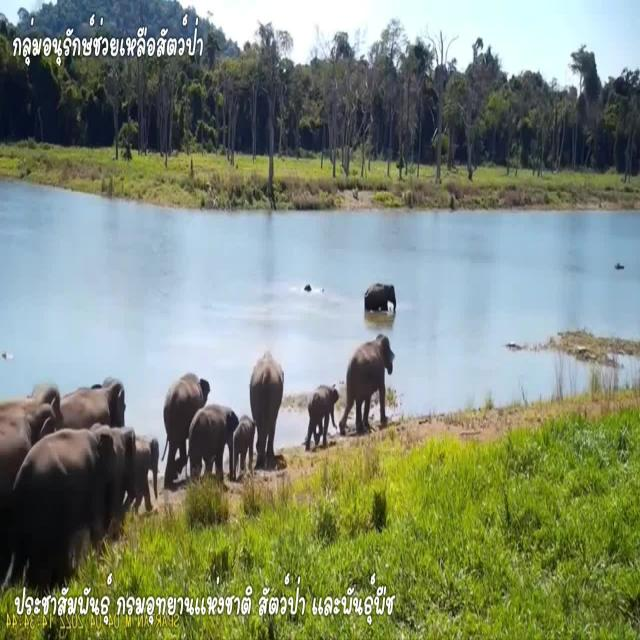Elephant: (22, 430, 109, 540), (0, 380, 57, 468), (60, 369, 127, 435), (161, 364, 209, 446), (106, 422, 140, 508), (351, 340, 394, 406), (193, 409, 239, 467), (131, 432, 165, 506), (253, 356, 286, 425), (360, 279, 398, 315), (306, 386, 336, 429), (233, 422, 257, 471)
